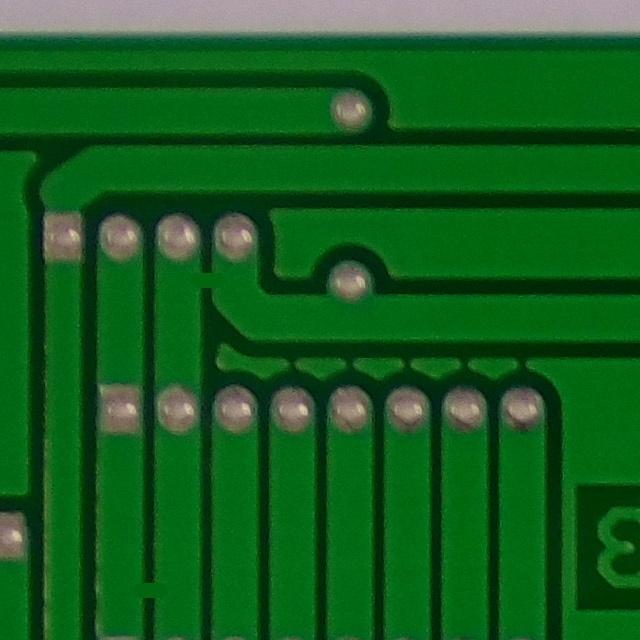short: (168, 237, 250, 322), (110, 550, 191, 626)
